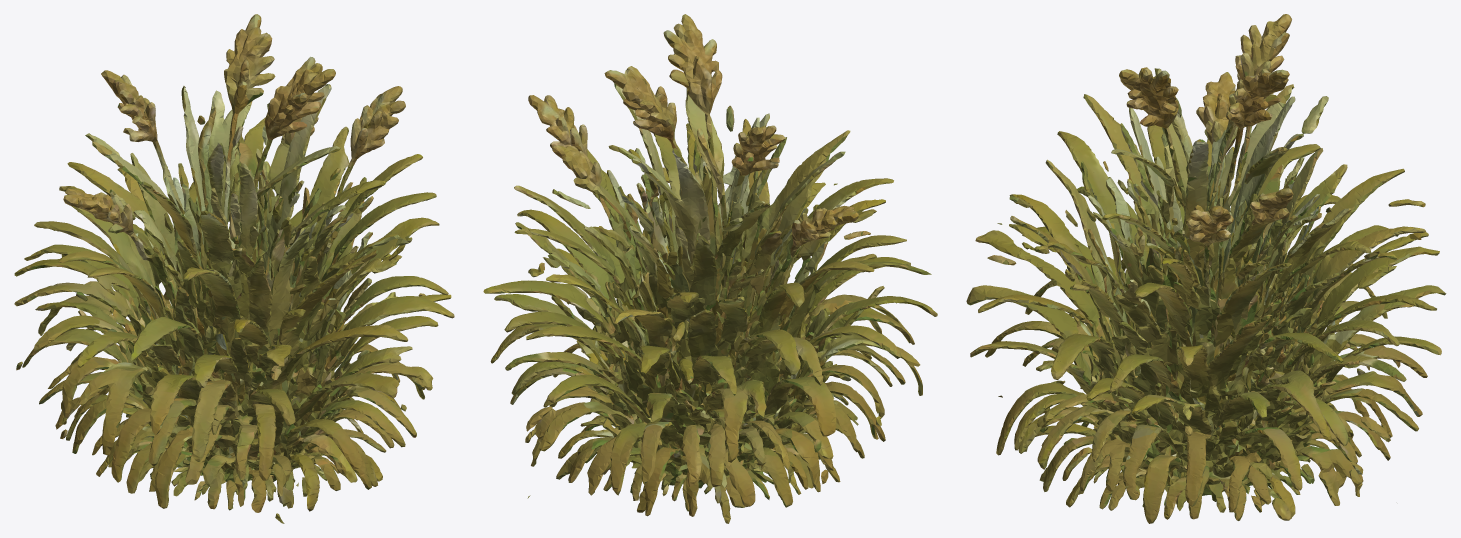
The model's file is prop-grass_tuft.glb.
3 renders of one model, left to right at view 1: azimuth 30°, elevation 25°; view 2: azimuth 150°, elevation 25°; view 3: azimuth 270°, elevation 25°, orthographic. The views are drawn at different scales.
Visible parts, largest first — view 1: geometry_0; view 2: geometry_0; view 3: geometry_0.
Boxes of the visible parts, x1=… form: geometry_0: x1=14, y1=14, x2=454, y2=523; geometry_0: x1=483, y1=14, x2=937, y2=523; geometry_0: x1=966, y1=14, x2=1446, y2=523.
Size of the model in its own units: 2 by 1.99 by 1.98.
Materials: 1 (1 with a texture image).
